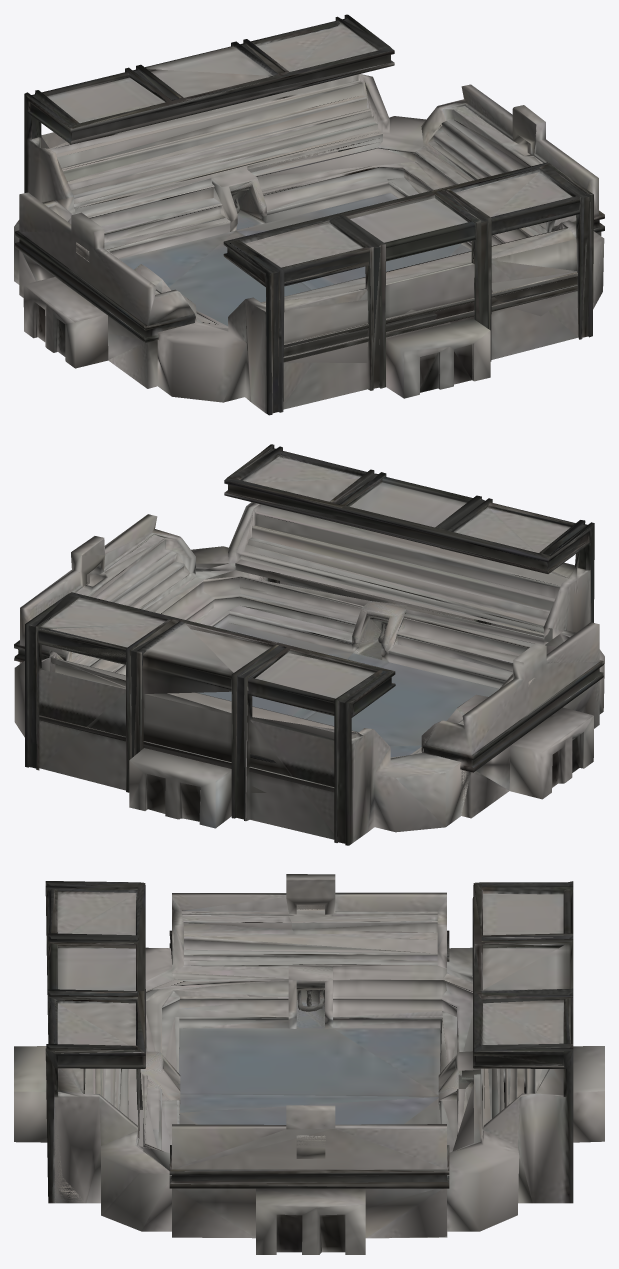
File: 35-small-stadium.glb
The picture shows the model from 3 angles, top to bottom: view 1: azimuth 30°, elevation 25°; view 2: azimuth 150°, elevation 25°; view 3: azimuth 270°, elevation 25°; orthographic projection. The views are drawn at different scales.
Visible parts, largest first — view 1: geometry_0; view 2: geometry_0; view 3: geometry_0.
Part boxes in pixels (x1,y1,x2,y2): geometry_0: (14, 14, 604, 415); geometry_0: (14, 444, 604, 845); geometry_0: (14, 874, 604, 1254).
Bounding box in the file's own units: 0.9497 × 0.2515 × 0.8745.
Materials: 1 (1 with a texture image).
